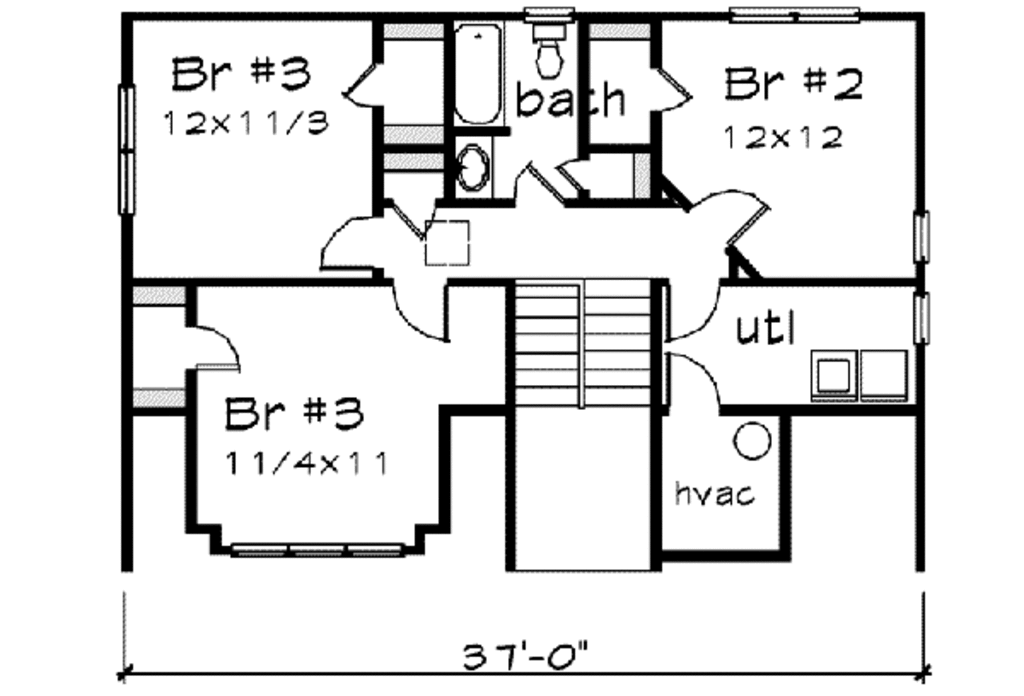door: (686, 176, 771, 247), (653, 346, 730, 413), (319, 208, 381, 274), (666, 278, 721, 342), (397, 288, 458, 342), (507, 161, 571, 208), (385, 191, 442, 243), (194, 323, 244, 375), (648, 66, 694, 119), (342, 59, 387, 113)
large_sink: (525, 22, 565, 82)
small_sink: (451, 135, 500, 199)
stairs: (516, 268, 657, 422)
tub: (447, 19, 509, 130)
window: (725, 2, 864, 31), (234, 538, 401, 561), (116, 84, 137, 218), (913, 211, 934, 267), (913, 287, 933, 345)
